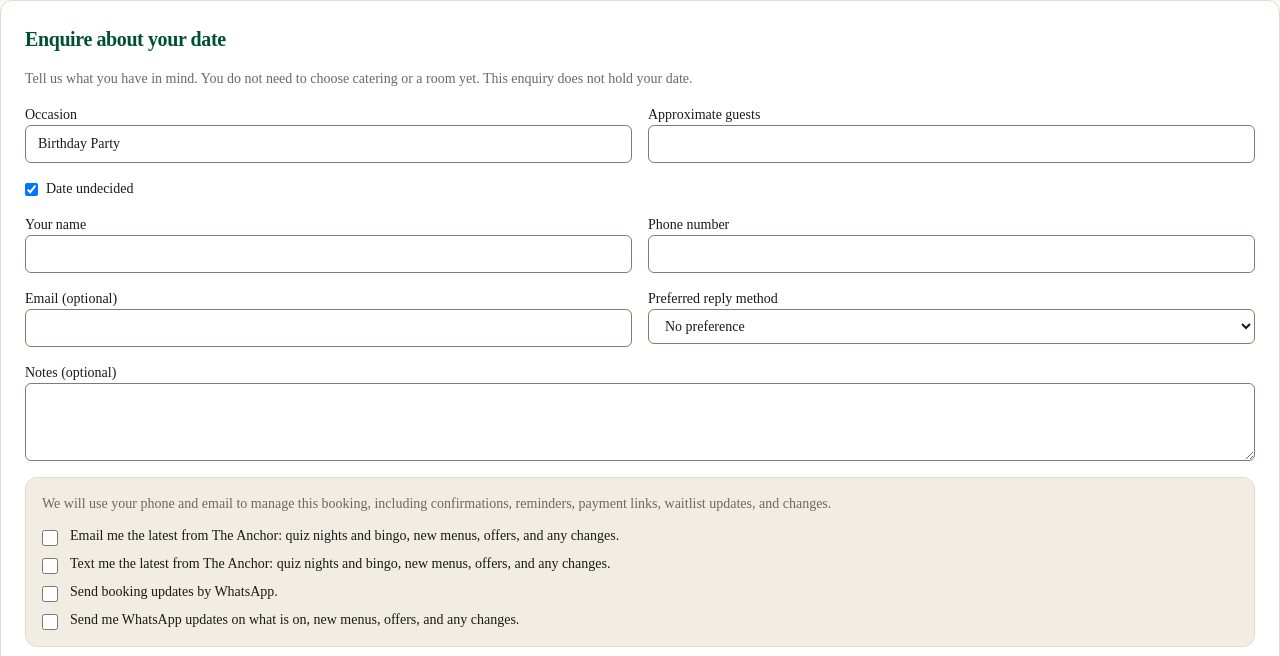
Test: failure retains inputs, suppresses double submit, and retries the same business payload
The width and height of the screenshot is (1280, 656).
Type "250" into the number field labelled "Approximate guests".
click(952, 144); type("250")  # box [648,125,1255,163]
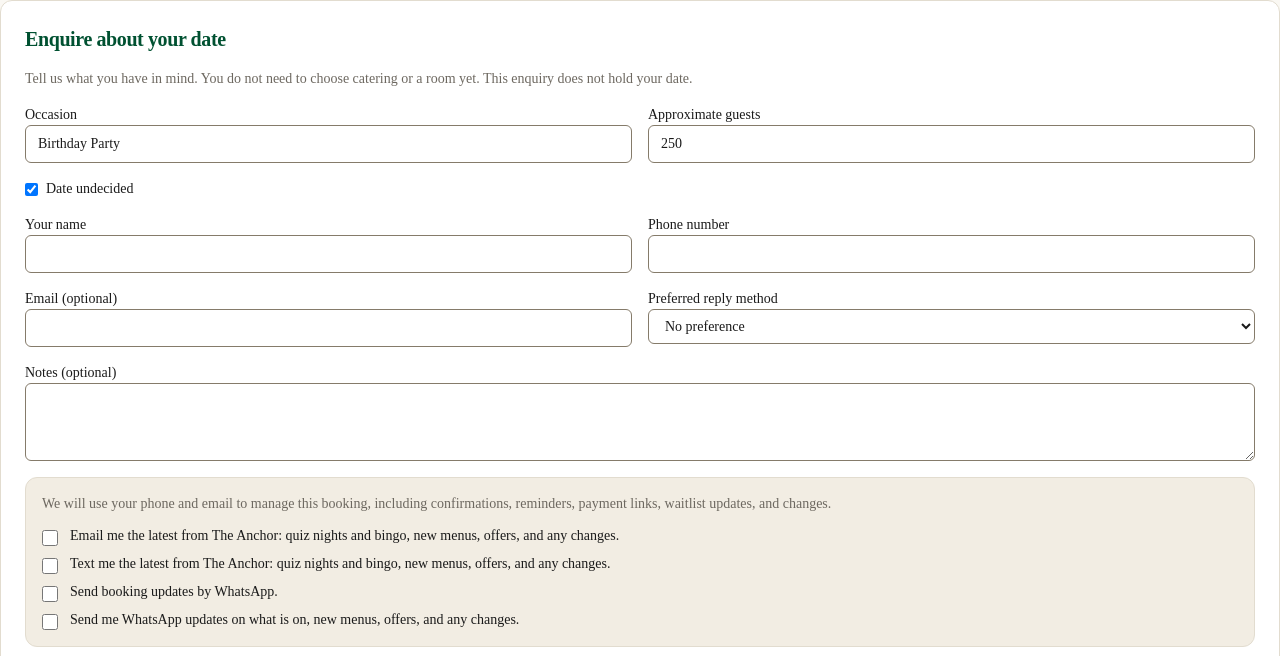
Type "Test Guest" into the field labelled "Your name".
click(328, 254); type("Test Guest")  # box [25,235,632,273]
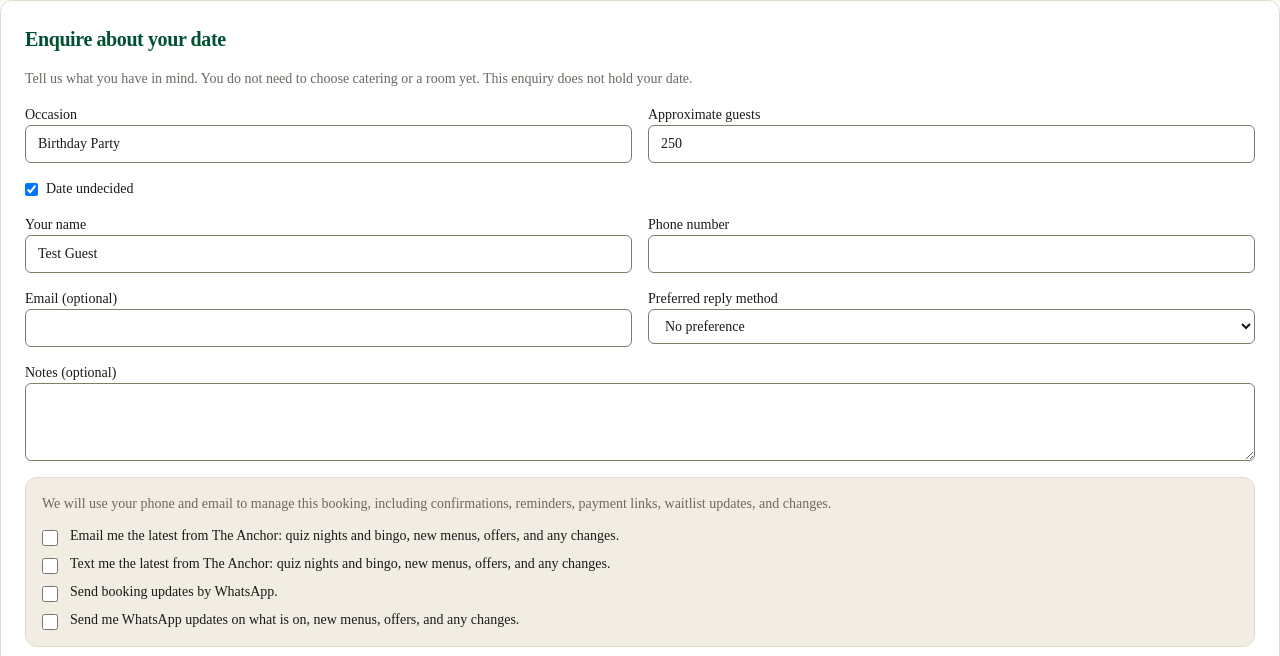
Type "+447700900000" into the field labelled "Phone number".
click(952, 254); type("+447700900000")  # box [648,235,1255,273]
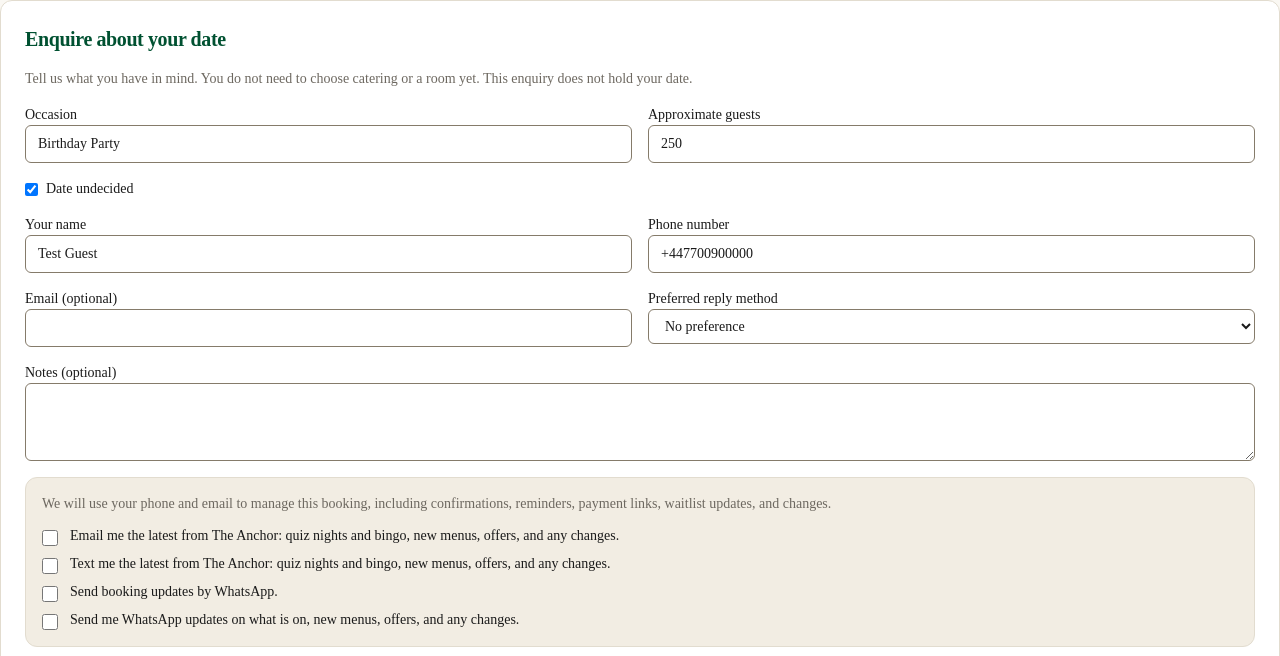
Submit the form named "Short private hire enquiry"
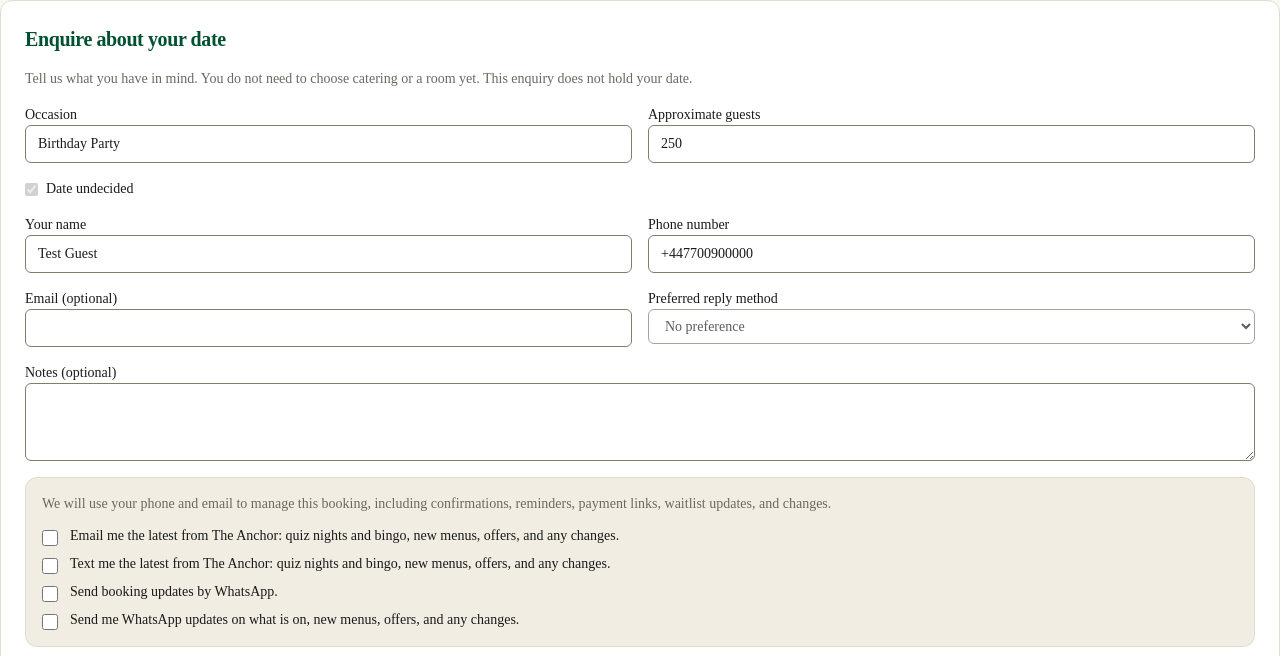
Submit the form named "Short private hire enquiry"
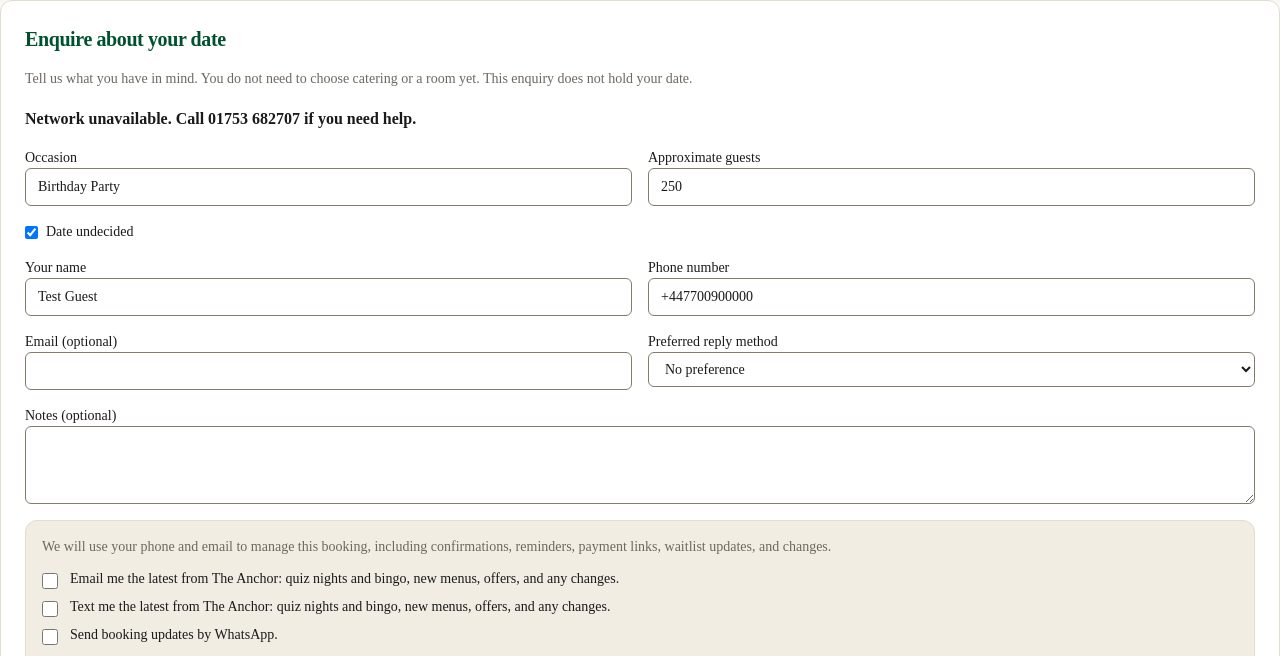
Check: the message "Network unavailable. Call 01753 682707 if you need help." is shown, box [25,110,416,127]
Submit the form named "Short private hire enquiry"
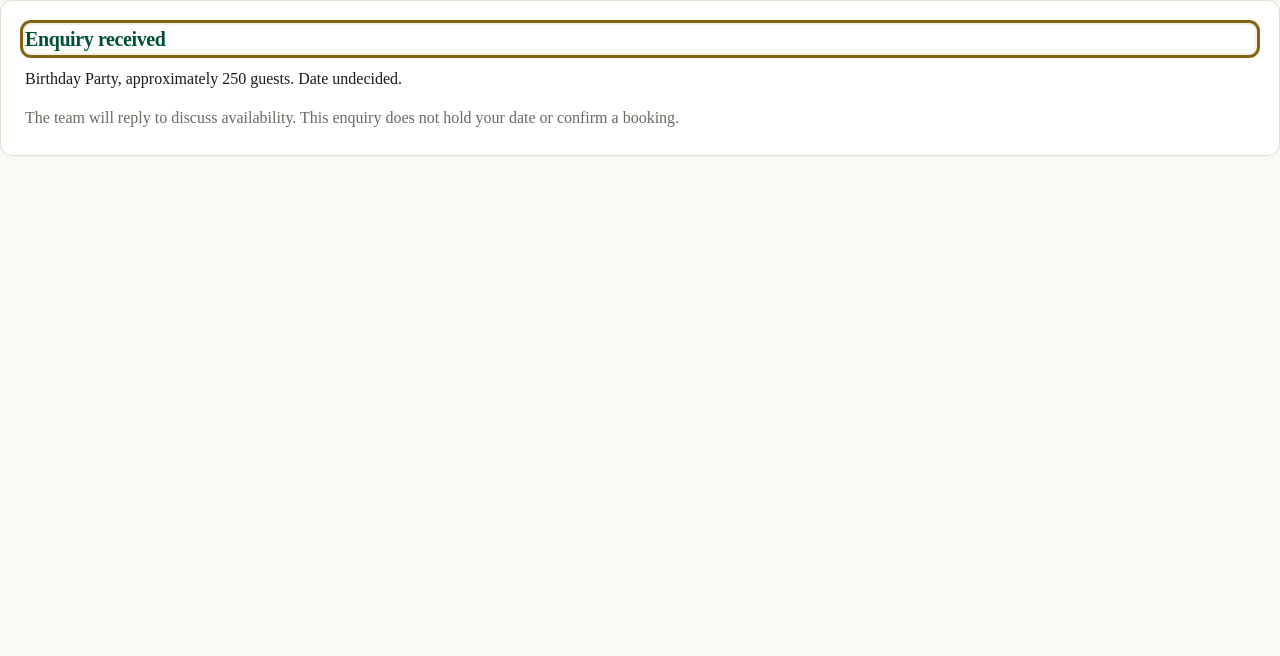
Check: the heading "Enquiry received" is shown, box [25,25,1255,53]
